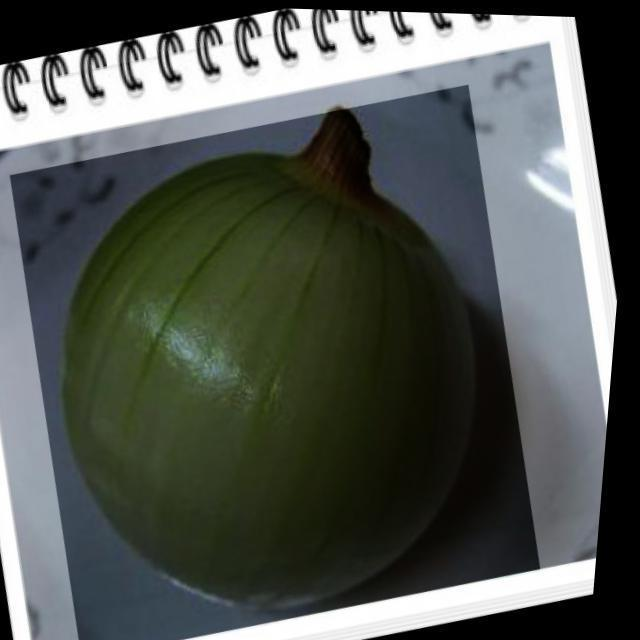Onion: (0, 71, 581, 640)
